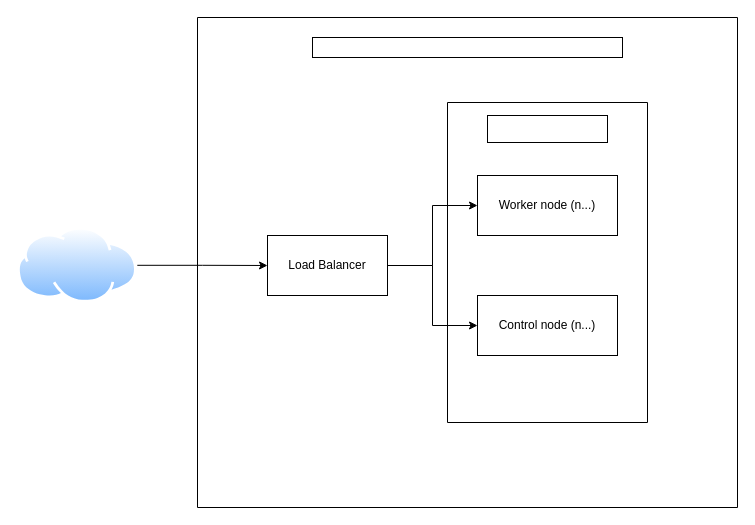
Some shapes in this 755 by 525 pixel diagram are drawn without their labels. The box of each missing label's shape, as (x1, y1, x2, y2) in pixels:
Hetzner cloud: (312, 36, 622, 58)
kubeadm cluster: (486, 114, 608, 142)
